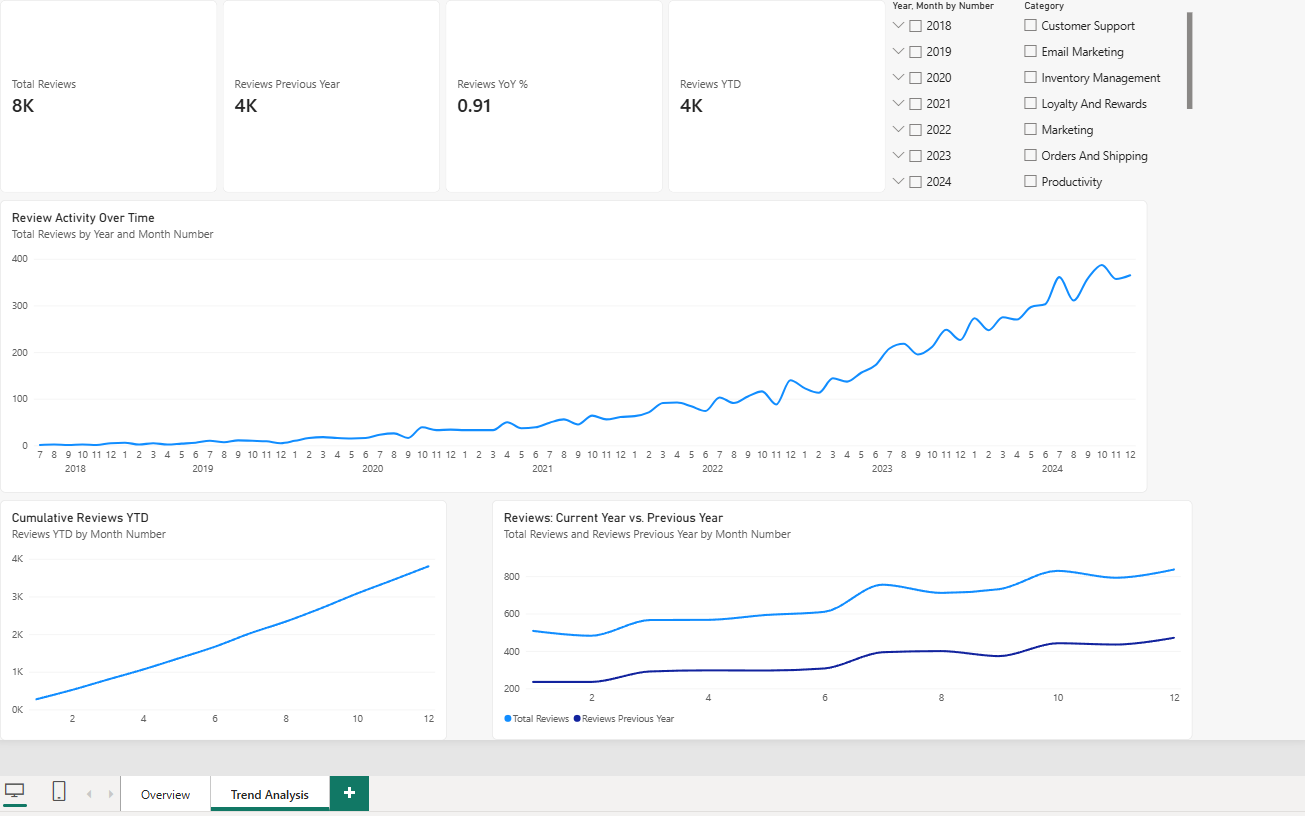

The dashboard page shown, as its layout file describes it:
{"tool":"powerbi","page":{"name":"Trend Analysis","canvas":[1920,1080],"ordinal":1},"visuals":[{"type":"cardVisual","fields":{"Data":["dim_date.Total Reviews","dim_date.Reviews Previous Year","dim_date.Reviews YoY %","dim_date.Reviews YTD"]},"box":[10.5,0,1293.5,281.8],"z":0},{"type":"slicer","fields":{"Values":["dim_date.Year","dim_date.Month Number"]},"box":[1304,0,193.3,292.3],"z":1},{"type":"slicer","fields":{"Values":["apps.category_name"]},"box":[1497.3,0,253.3,292.3],"z":2},{"type":"lineChart","title":"Review Activity Over Time","fields":{"Category":["dim_date.Year","dim_date.Month Number"],"Y":["dim_date.Total Reviews"]},"box":[10.5,292.3,1674.2,427.2],"z":3},{"type":"lineChart","title":"Cumulative Reviews YTD","fields":{"Category":["dim_date.Month Number"],"Y":["dim_date.Reviews YTD"]},"box":[10.5,729.9,652,350.7],"z":4},{"type":"lineChart","title":"Reviews: Current Year vs. Previous Year","fields":{"Category":["dim_date.Month Number"],"Y":["dim_date.Total Reviews","dim_date.Reviews Previous Year"]},"box":[728.4,729.9,1022,350],"z":5}]}

Visuals, with their boxes on the page's 1920x1080 design canvas (x1, y1, x2, y2). These are canvas units, not pixel positions in the 1305x816 screenshot, which may show the page scaled, cropped or inside an application window:
cardVisual - dim_date.Total Reviews x dim_date.Reviews Previous Year: {"left": 10, "top": 0, "right": 1304, "bottom": 282}
slicer - dim_date.Year x dim_date.Month Number: {"left": 1304, "top": 0, "right": 1497, "bottom": 292}
slicer - apps.category_name: {"left": 1497, "top": 0, "right": 1751, "bottom": 292}
"Review Activity Over Time" lineChart: {"left": 10, "top": 292, "right": 1685, "bottom": 720}
"Cumulative Reviews YTD" lineChart: {"left": 10, "top": 730, "right": 662, "bottom": 1081}
"Reviews: Current Year vs. Previous Year" lineChart: {"left": 728, "top": 730, "right": 1750, "bottom": 1080}
